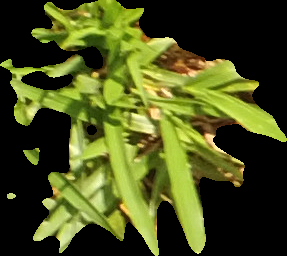grass: (1, 1, 286, 255)
